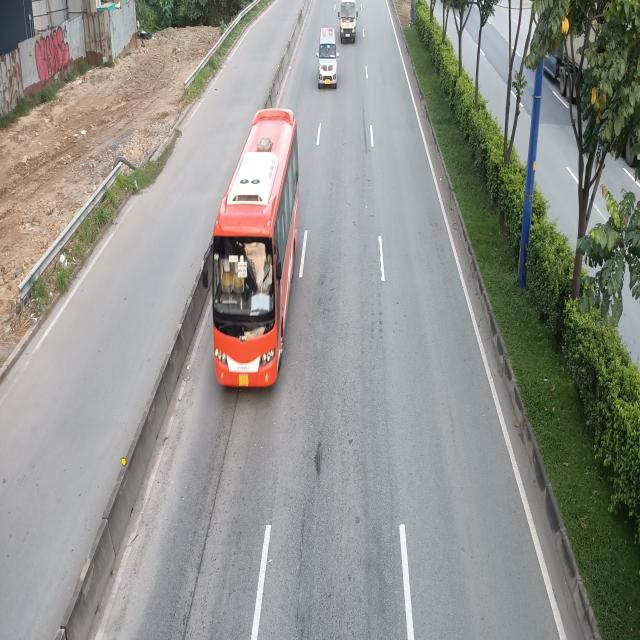coach: (204, 111, 305, 392)
truck: (339, 1, 360, 44)
van: (316, 26, 339, 90)
